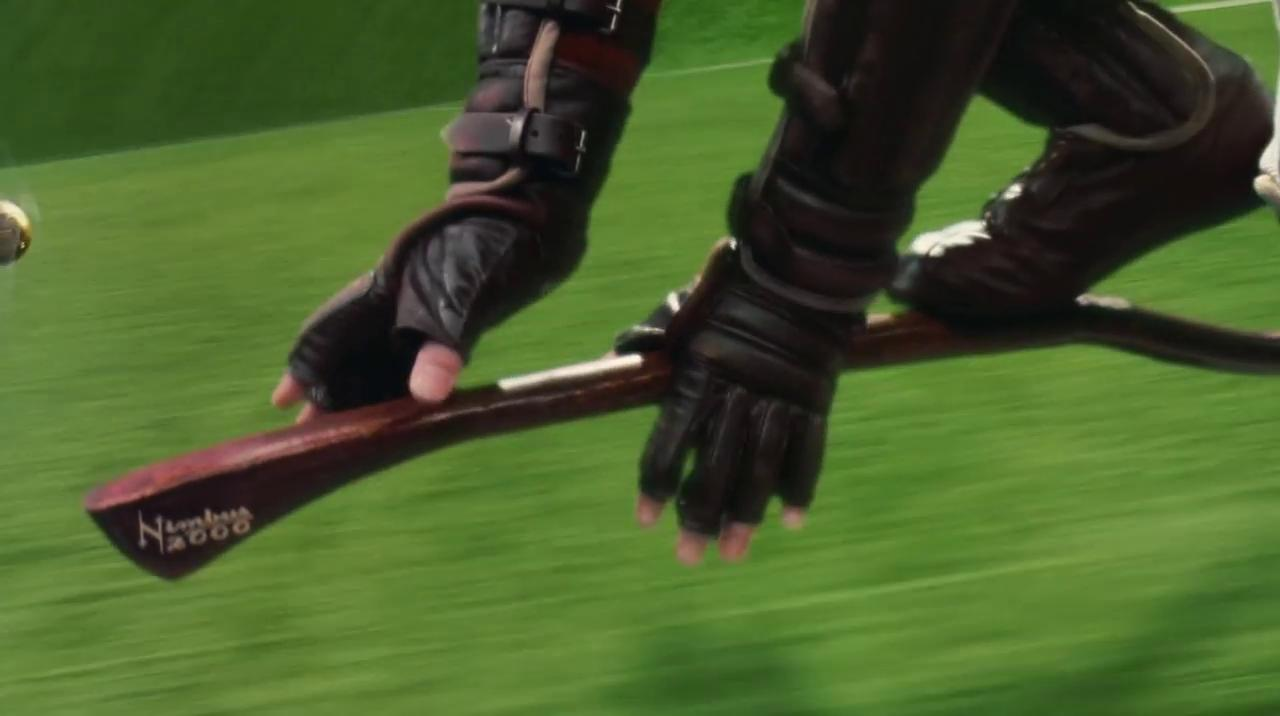snitch: (1, 198, 32, 268)
